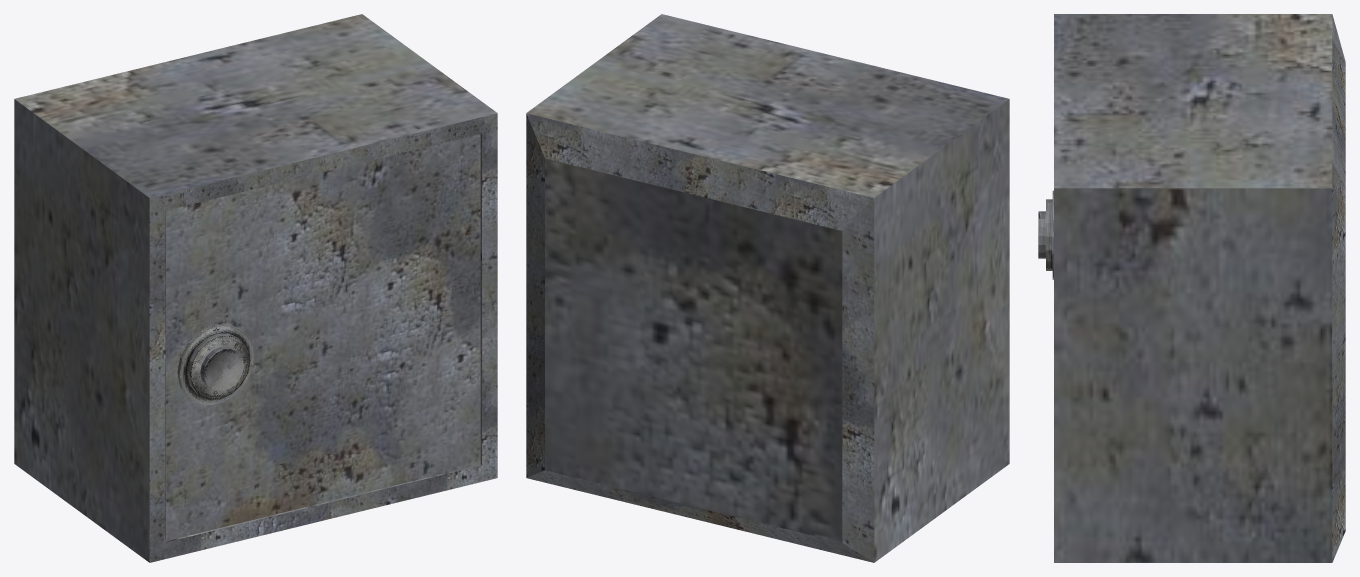
The model's file is safe.fbx.
3 renders of one model, left to right at view 1: azimuth 30°, elevation 25°; view 2: azimuth 150°, elevation 25°; view 3: azimuth 270°, elevation 25°, orthographic. The views are drawn at different scales.
Parts seen in each view (by area): view 1: safe, safe_door; view 2: safe; view 3: safe, safe_door.
Boxes of the visible parts, box(x1,y1,x2,y2) form: safe: box(14, 14, 497, 562); safe_door: box(165, 134, 480, 540); safe: box(526, 14, 1009, 562); safe: box(1054, 14, 1345, 562); safe_door: box(1038, 190, 1053, 279).
Size of the model in its own units: 105 by 106 by 78.54.
Materials: 2 (2 with a texture image).
